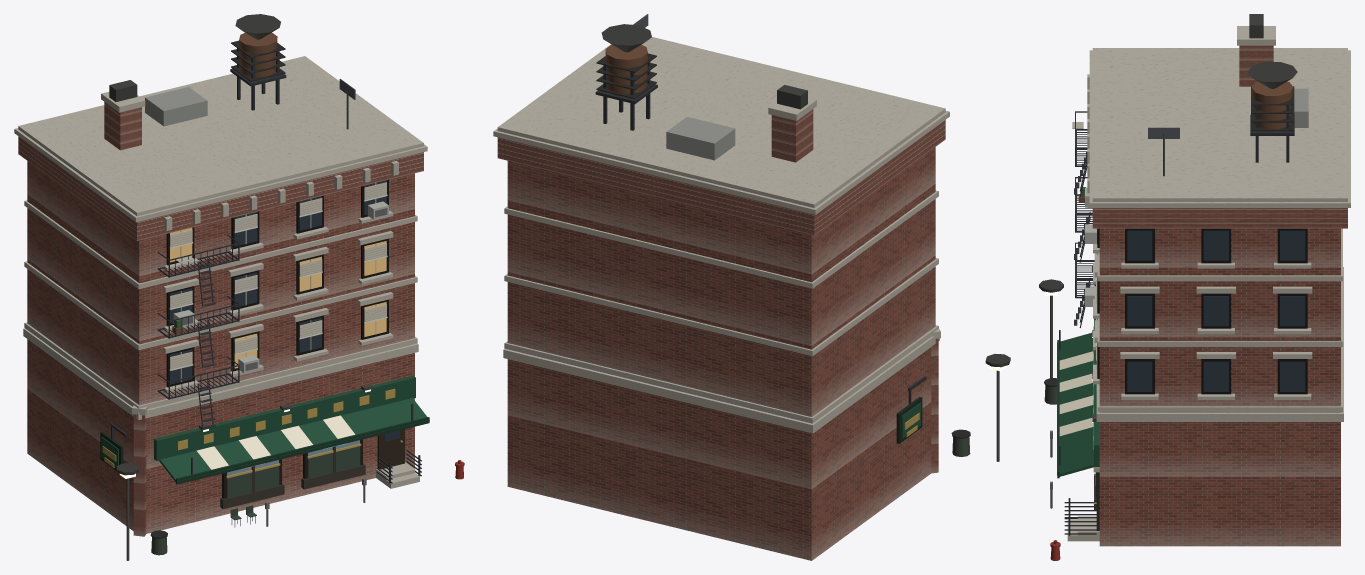
File: jersey_club.glb
The picture shows the model from 3 angles, left to right: view 1: azimuth 30°, elevation 25°; view 2: azimuth 150°, elevation 25°; view 3: azimuth 270°, elevation 25°; orthographic projection. The views are drawn at different scales.
Size of the model in its own units: 21.47 by 23.85 by 15.52.
4 materials, 4 textured.
